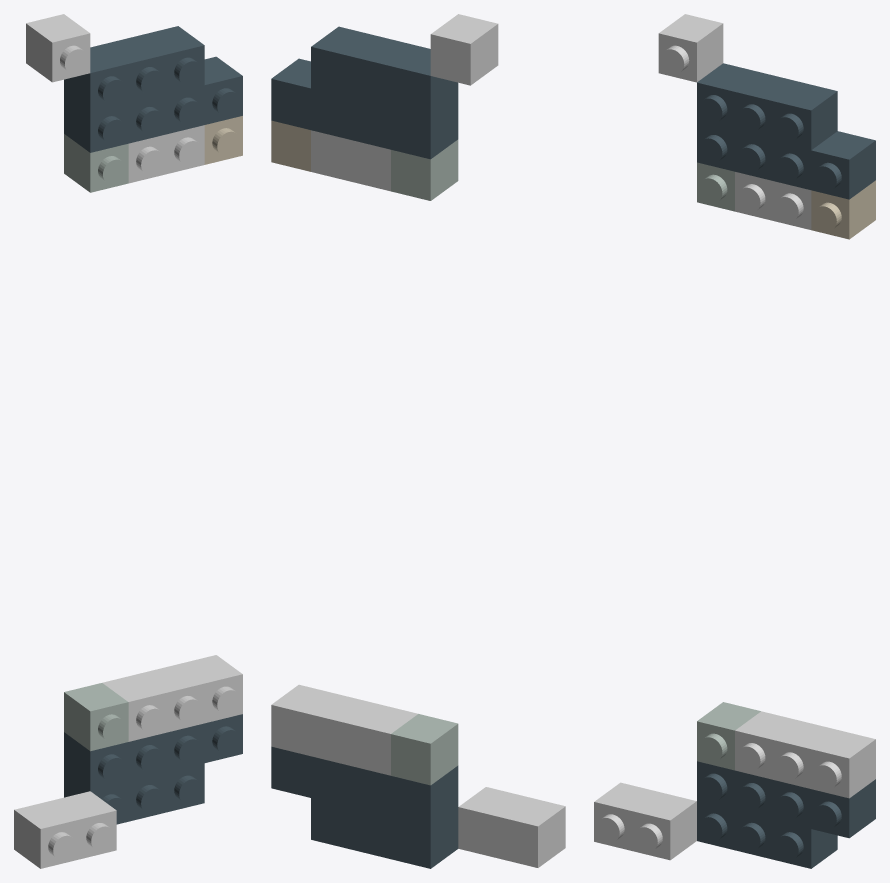
File: full.glb
3 renders of one model, left to right at view 1: azimuth 30°, elevation 25°; view 2: azimuth 150°, elevation 25°; view 3: azimuth 330°, elevation 25°, orthographic. The views are drawn at different scales.
Visible parts, largest first — view 1: world; view 2: world; view 3: world.
Boxes of the visible parts, bbox=[...] form: world: bbox=[14, 14, 242, 868]; world: bbox=[271, 14, 565, 868]; world: bbox=[594, 14, 875, 868].
Size of the model in its own units: 48 by 160 by 21.
